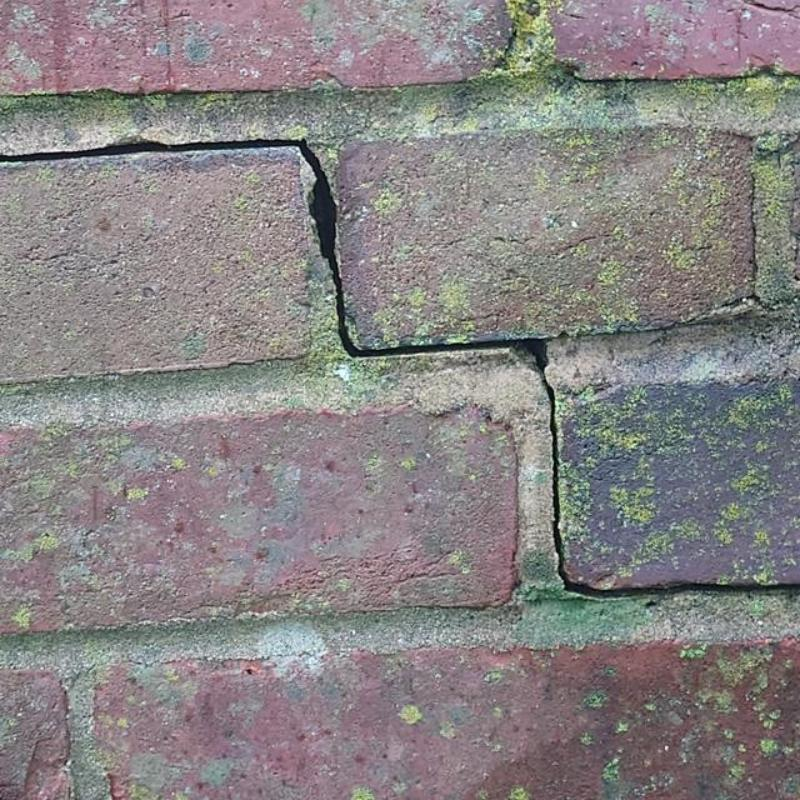pothole: (0, 141, 800, 600)
